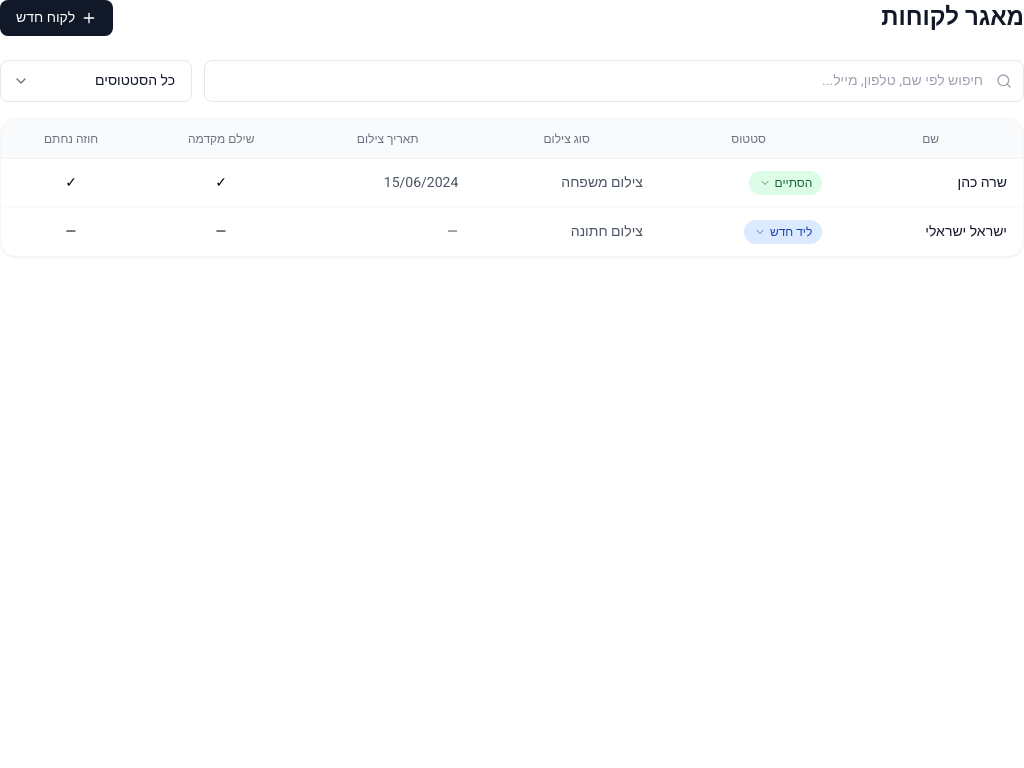
Test case: ClientsDatabase › clicking "+ לקוח חדש" button opens the modal
Click the button "לקוח חדש": (57, 18) [0, 0, 113, 36]
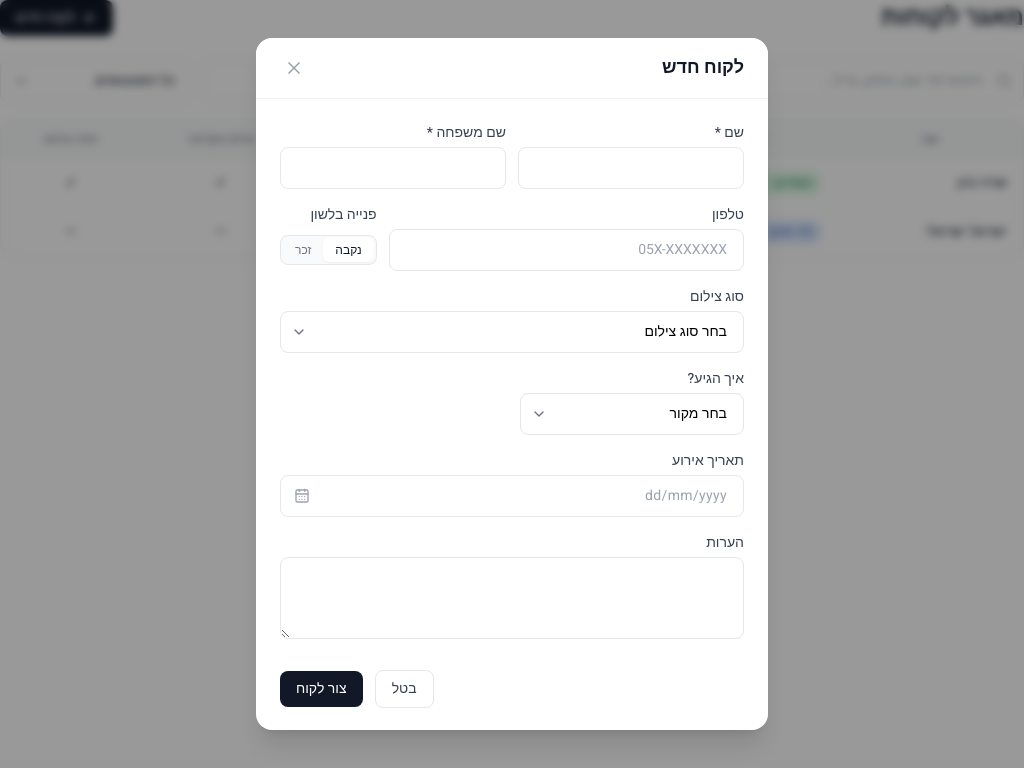
Expected: the dialog is shown, [256, 38, 768, 730]
Expected: the heading "לקוח חדש" is shown, [662, 54, 744, 82]
